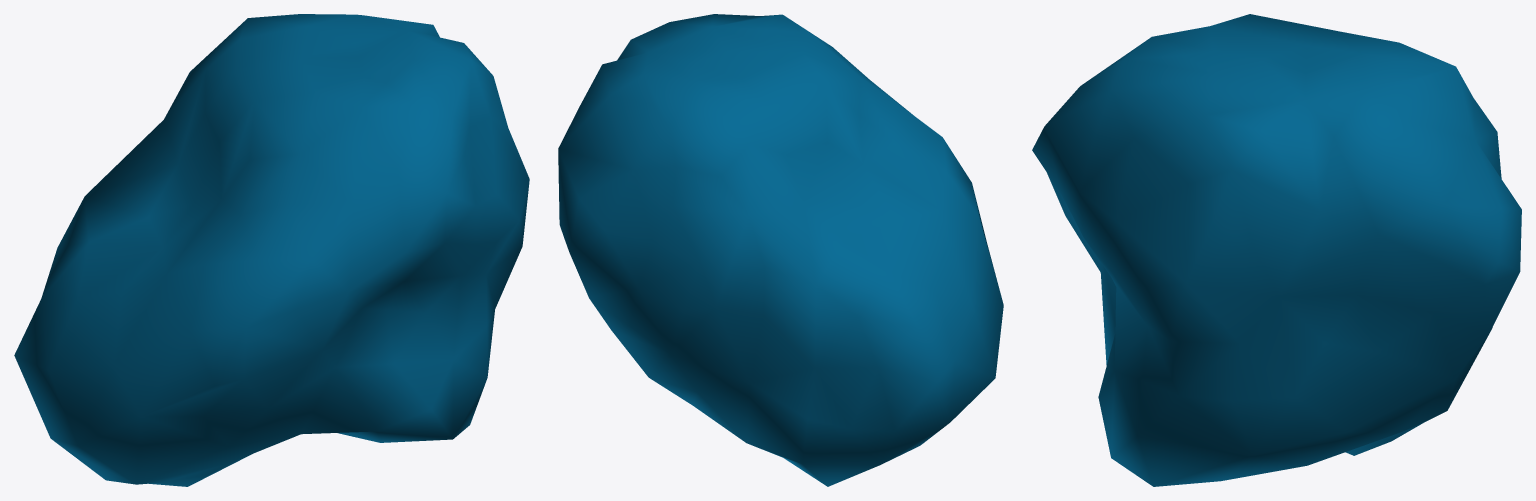
File: glass_rock.gltf
3 renders of one model, left to right at view 1: azimuth 30°, elevation 25°; view 2: azimuth 150°, elevation 25°; view 3: azimuth 270°, elevation 25°, orthographic. The views are drawn at different scales.
Parts seen in each view (by area): view 1: rock; view 2: rock; view 3: rock.
Boxes of the visible parts, box(x1,y1,x2,y2) form: rock: box(14, 14, 529, 486); rock: box(558, 14, 1003, 486); rock: box(1032, 14, 1521, 486).
Size of the model in its own units: 1.28 by 1.18 by 1.12.
